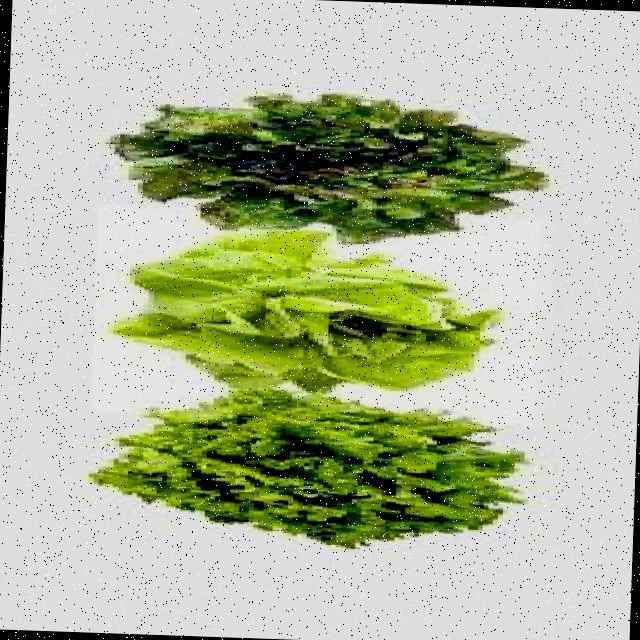healthy: (140, 105, 518, 228), (123, 257, 467, 378), (158, 406, 484, 532)
